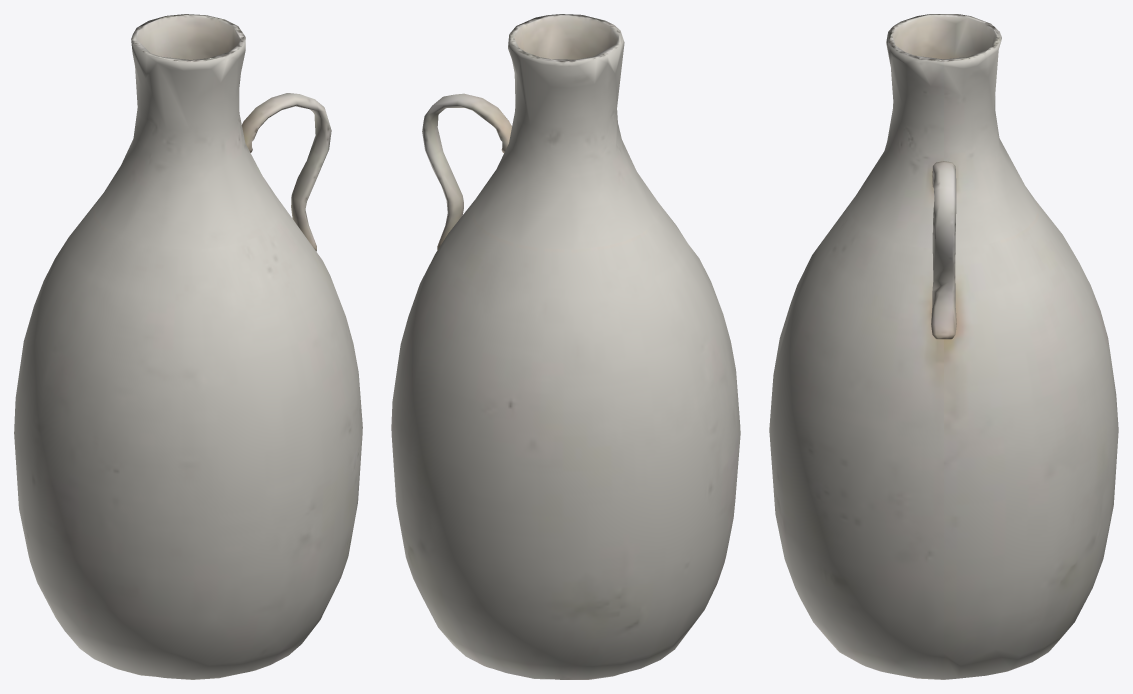
File: ceramic_vase_04.ktx2.glb
The picture shows the model from 3 angles, left to right: view 1: azimuth 30°, elevation 25°; view 2: azimuth 150°, elevation 25°; view 3: azimuth 270°, elevation 25°; orthographic projection.
Parts seen in each view (by area): view 1: ceramic_vase_04; view 2: ceramic_vase_04; view 3: ceramic_vase_04.
Part boxes in pixels (x1,y1,x2,y2): ceramic_vase_04: (14,14,362,679); ceramic_vase_04: (391,14,740,679); ceramic_vase_04: (769,14,1118,679).
Bounding box in the file's own units: 0.1811 × 0.341 × 0.1811.
Materials: 1 (1 with a texture image).
